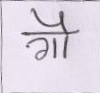au_matra: (45, 11, 76, 57)
